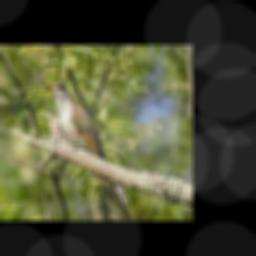Cuckoo: (46, 83, 130, 209)
